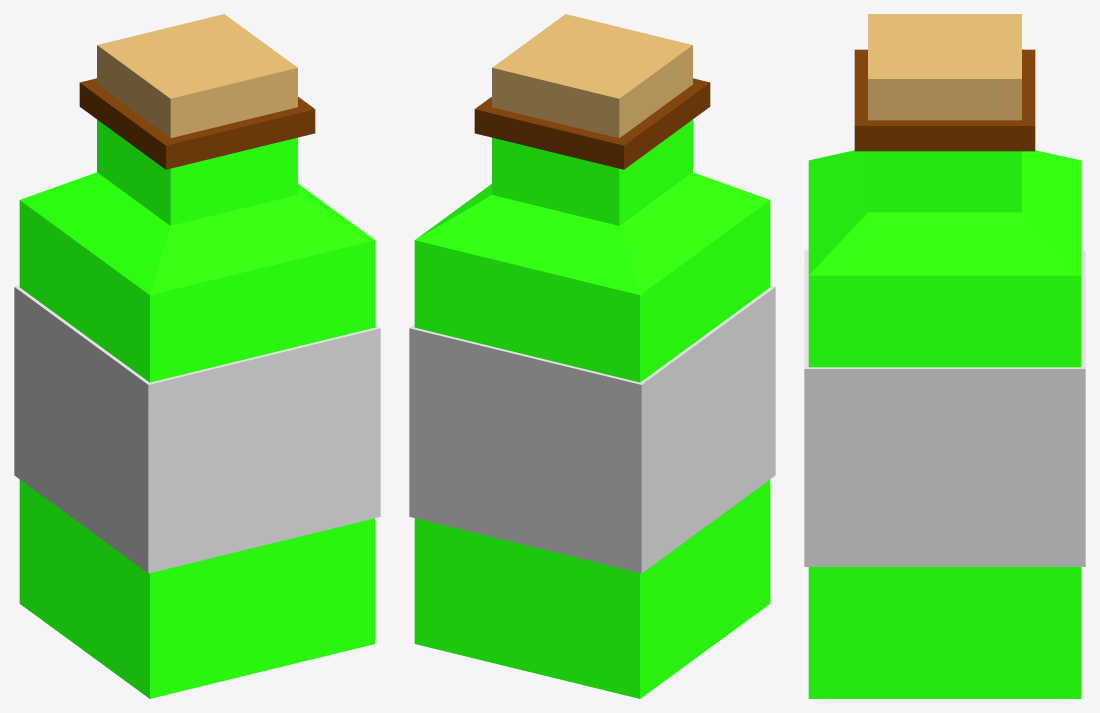
File: potion_bottle.fbx
The picture shows the model from 3 angles, left to right: view 1: azimuth 30°, elevation 25°; view 2: azimuth 150°, elevation 25°; view 3: azimuth 270°, elevation 25°; orthographic projection. The views are drawn at different scales.
Parts seen in each view (by area): view 1: Cube; view 2: Cube; view 3: Cube.
Boxes of the visible parts, x1,y1,x2,y2 form: Cube: [14, 14, 380, 698]; Cube: [409, 14, 775, 698]; Cube: [804, 14, 1085, 698].
Size of the model in its own units: 206 by 481 by 206.
